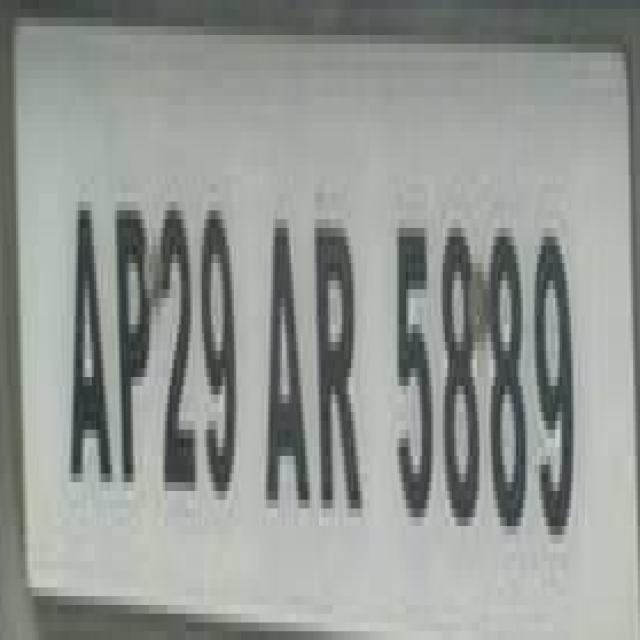plate: (20, 26, 640, 639)
